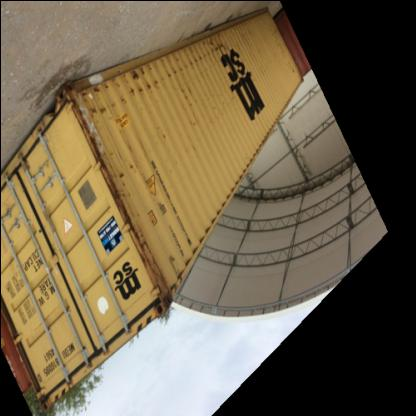Damage: (86, 52, 230, 114), (116, 194, 182, 318), (58, 86, 124, 197), (114, 152, 142, 190)
